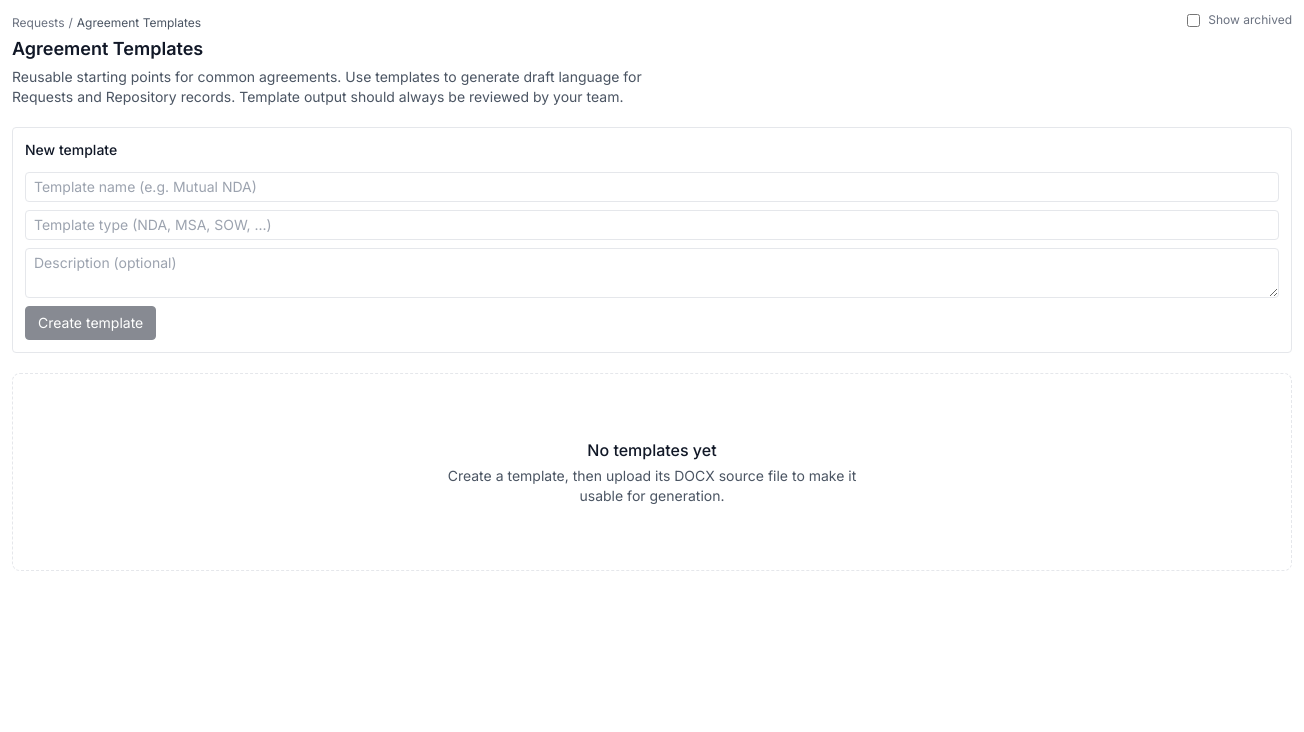
Test: AgreementTemplatesPage › shows 'No archived templates' when archived view is empty
This screenshot has width=1304, height=732.
Expected: the text "Create a template, then upload its DOCX" is shown, [448,466,856,504]
// Switch to archived view
Click the checkbox with test id "agreement-templates-include-archived" at (1194, 20), box [1187,14,1200,26]
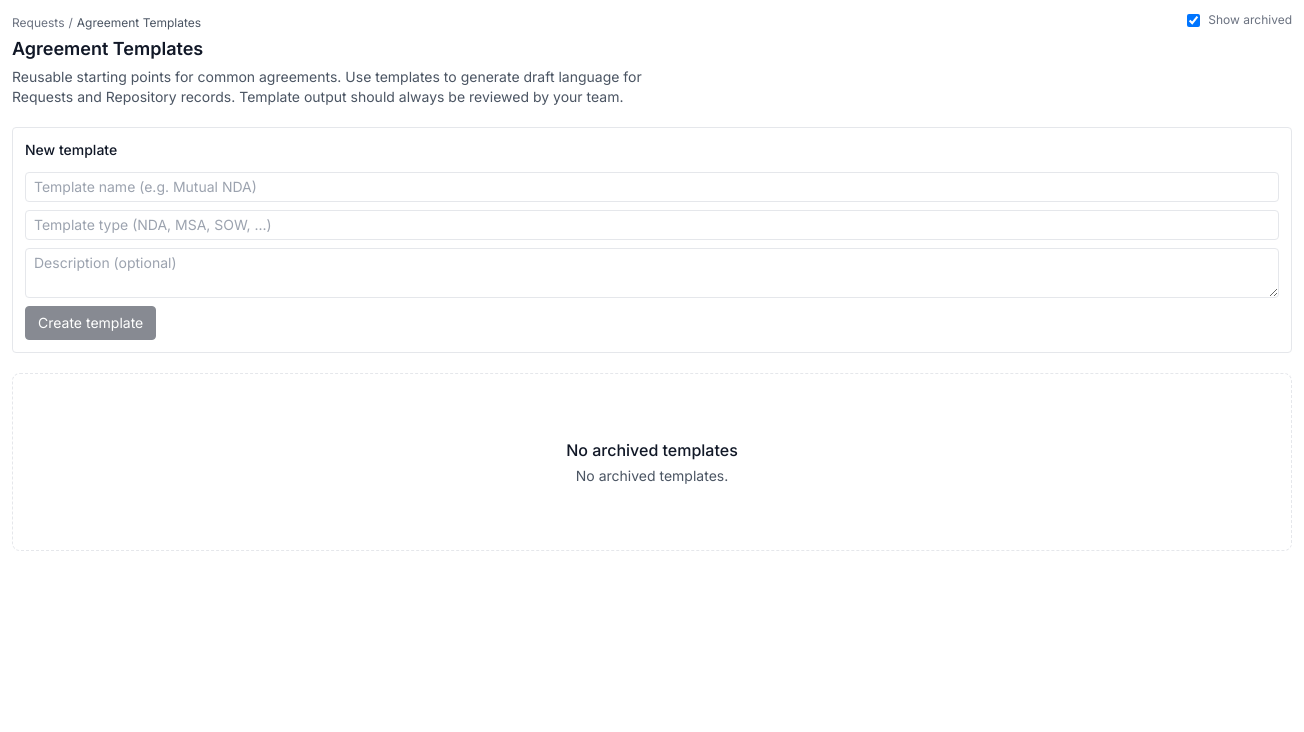
Expected: the heading "No archived templates" is shown, [566,438,738,462]
